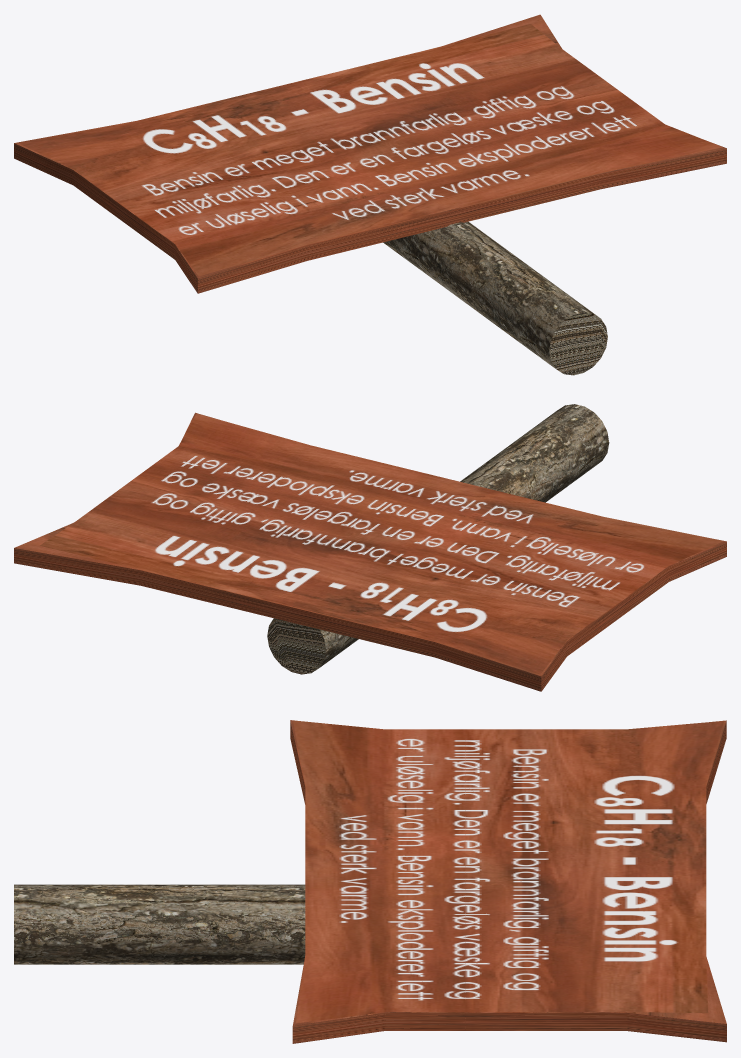
File: SkiltBensin2.FBX
3 views of the same model, one above another, from view 1: azimuth 30°, elevation 25°; view 2: azimuth 150°, elevation 25°; view 3: azimuth 270°, elevation 25° (orthographic). The views are drawn at different scales.
Parts seen in each view (by area): view 1: Bensin; view 2: Bensin; view 3: Bensin.
Part boxes in pixels (box(x1,y1,x2,y2)): Bensin: box(14, 14, 726, 375); Bensin: box(14, 404, 726, 691); Bensin: box(14, 720, 726, 1043).
Size of the model in its own units: 108 by 14.69 by 107.
Materials: 3 (3 with a texture image).
